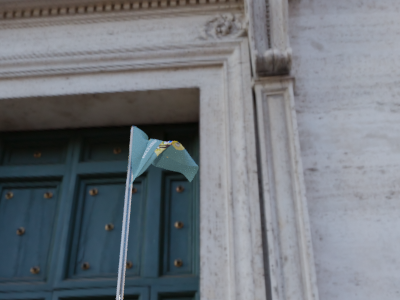Delaware flag: (130, 124, 200, 187)
